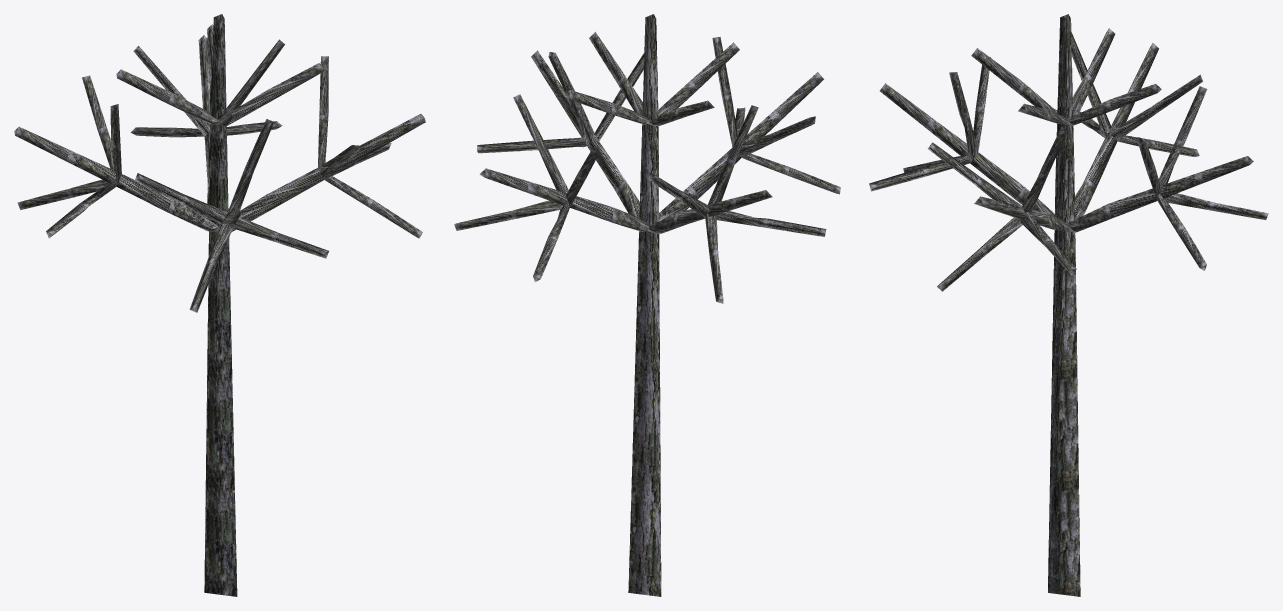
File: tree.obj
3 views of the same model, side by side, from view 1: azimuth 30°, elevation 25°; view 2: azimuth 150°, elevation 25°; view 3: azimuth 270°, elevation 25° (orthographic).
Parts seen in each view (by area): view 1: Object02; view 2: Object02; view 3: Object02.
Part boxes in pixels (bbox=[...]): Object02: bbox=[14, 14, 425, 596]; Object02: bbox=[454, 14, 840, 596]; Object02: bbox=[869, 14, 1268, 596].
Bounding box in the file's own units: 7.57 × 11.99 × 7.59.
Materials: 1 (1 with a texture image).
